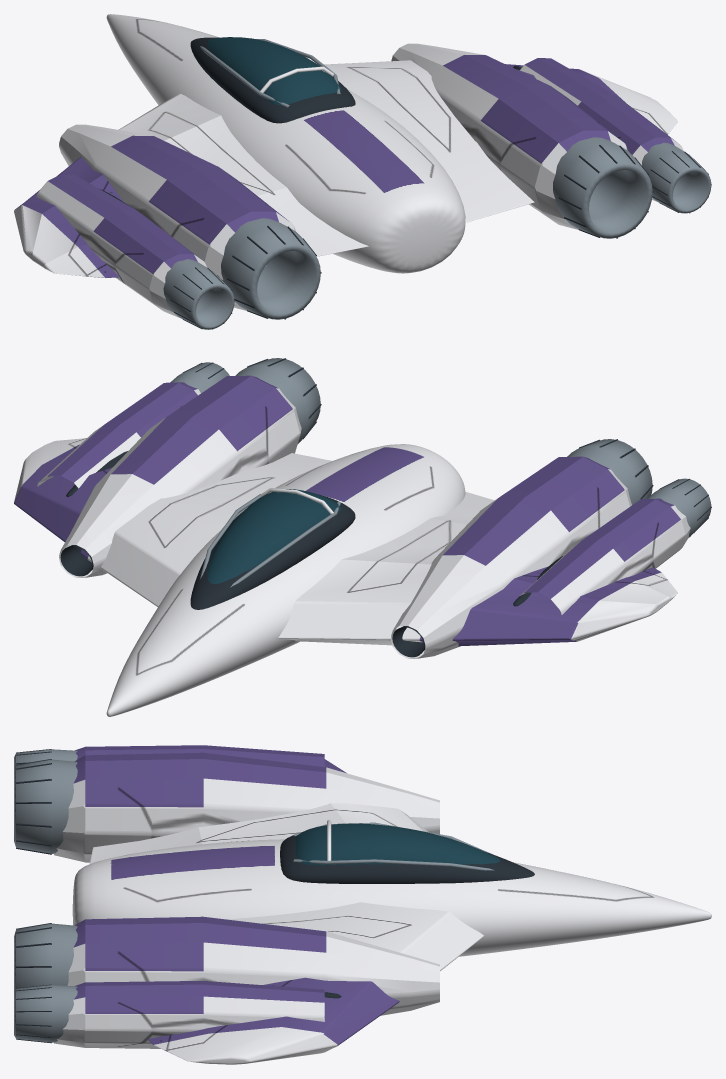
3 views of the same model, one above another, from view 1: azimuth 30°, elevation 25°; view 2: azimuth 150°, elevation 25°; view 3: azimuth 270°, elevation 25° (orthographic).
Visible parts, largest first — view 1: EmberBurstV2; view 2: EmberBurstV2; view 3: EmberBurstV2.
Part boxes in pixels (x1,y1,x2,y2): EmberBurstV2: [14, 14, 711, 329]; EmberBurstV2: [14, 358, 711, 716]; EmberBurstV2: [14, 745, 711, 1064].
Size of the model in its own units: 3.28 by 0.6313 by 3.13.
6 materials, 2 textured.
